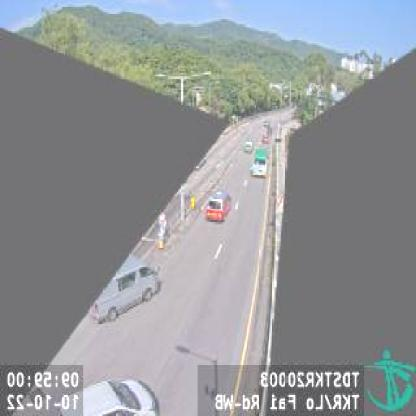Car: (89, 259, 158, 324), (59, 378, 162, 414), (204, 189, 230, 221), (244, 141, 253, 153)
Minibus: (252, 150, 270, 179)
